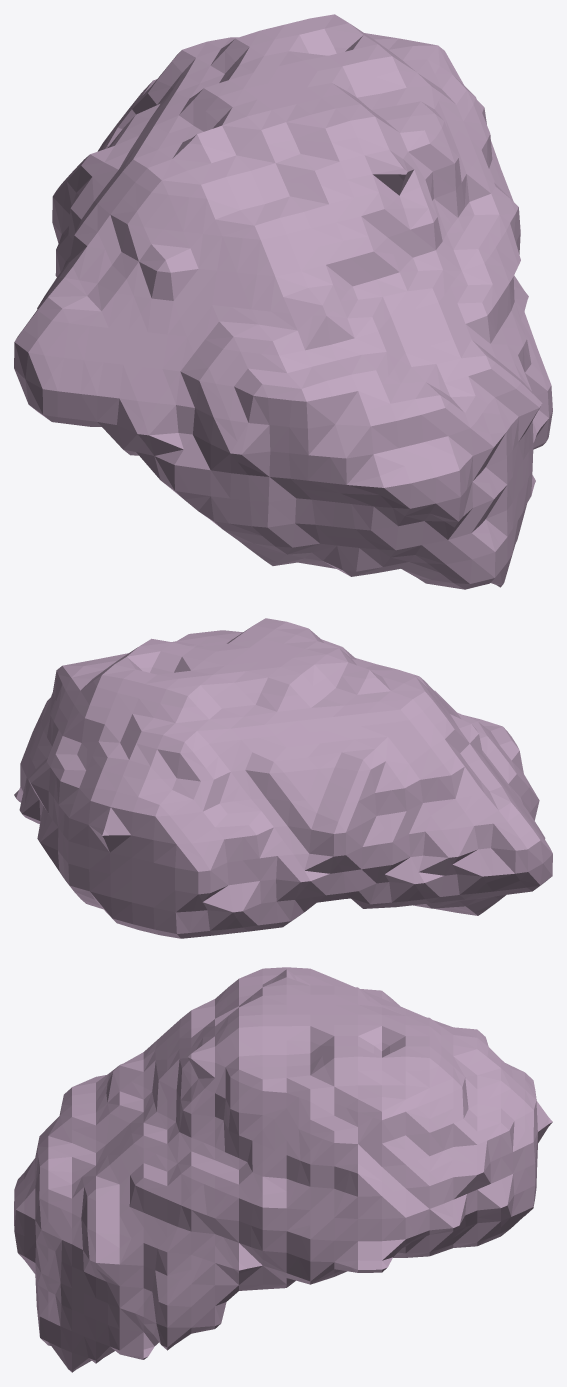
Rendered from r_amygdala.glb.
The picture shows the model from 3 angles, top to bottom: view 1: azimuth 30°, elevation 25°; view 2: azimuth 150°, elevation 25°; view 3: azimuth 270°, elevation 25°; orthographic projection. The views are drawn at different scales.
Parts seen in each view (by area): view 1: world; view 2: world; view 3: world.
Part boxes in pixels (x1,y1,x2,y2): world: (14,14,552,589); world: (14,618,552,938); world: (14,967,552,1372).
Bounding box in the file's own units: 21.74 × 15.65 × 22.62.
